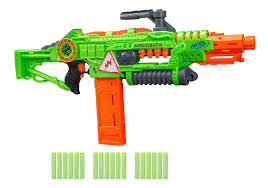Arma Falsa: (13, 7, 257, 148)
